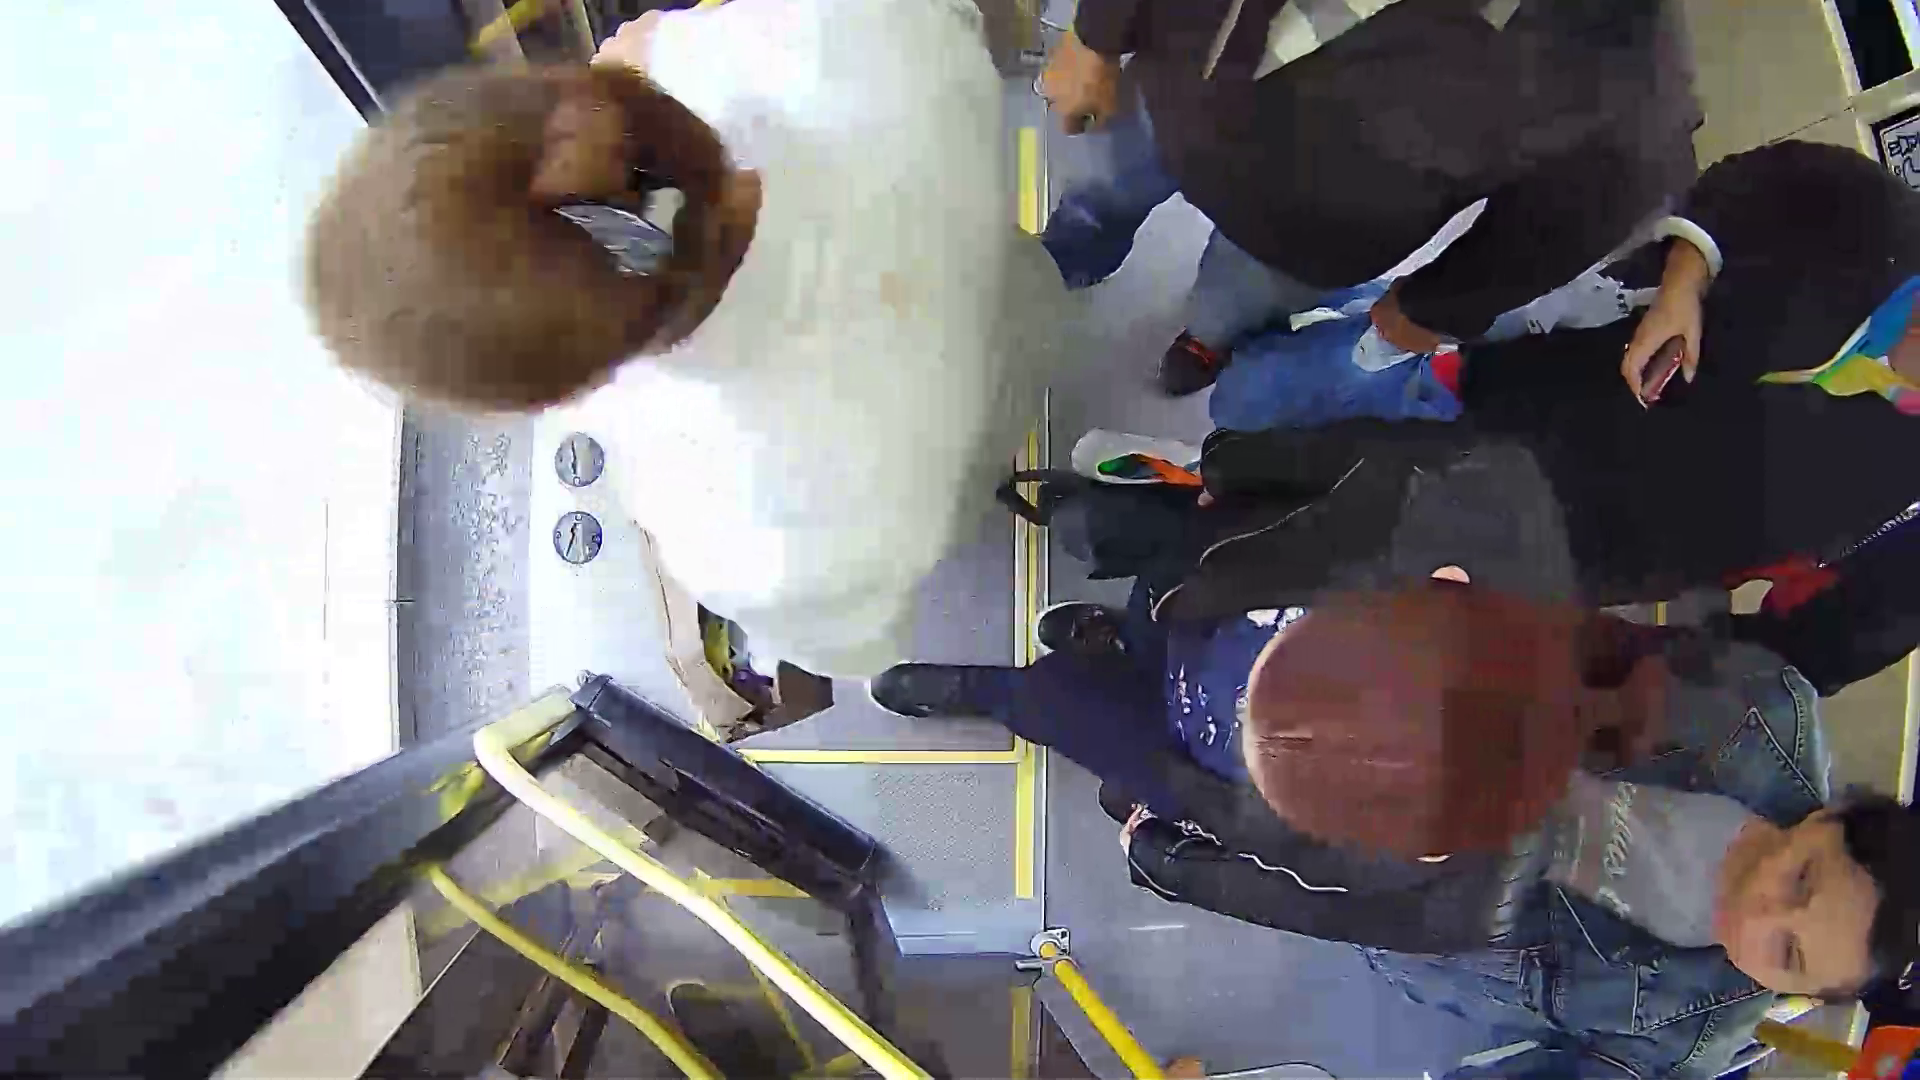person: (332, 28, 1050, 722), (1123, 340, 1645, 982)
